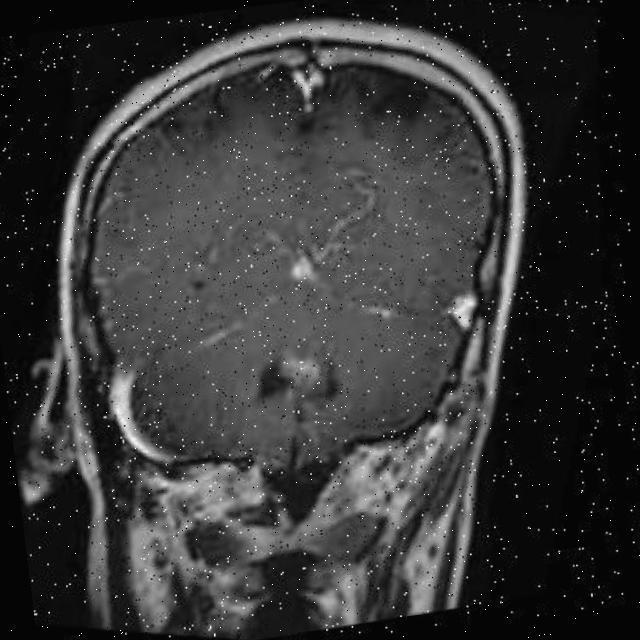CN: (228, 316, 419, 471)
